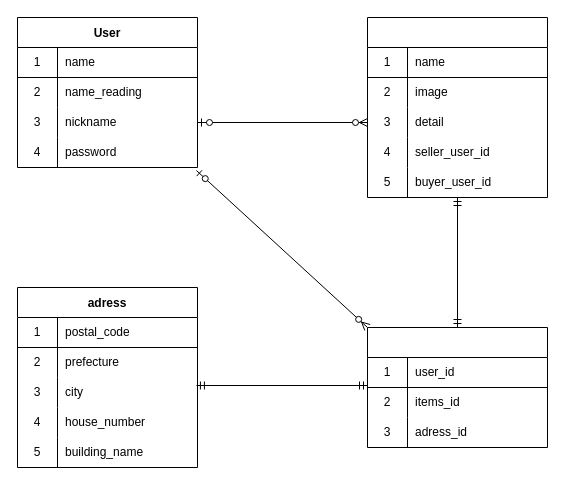
This 565x485 diagram has some shape labels left out. The shapes that lost their labels are listed below. From the top down, each one's box as (x1, y1, x2, y2) in pixels, then its label:
(366, 16, 548, 198): items
(366, 326, 548, 448): buy
